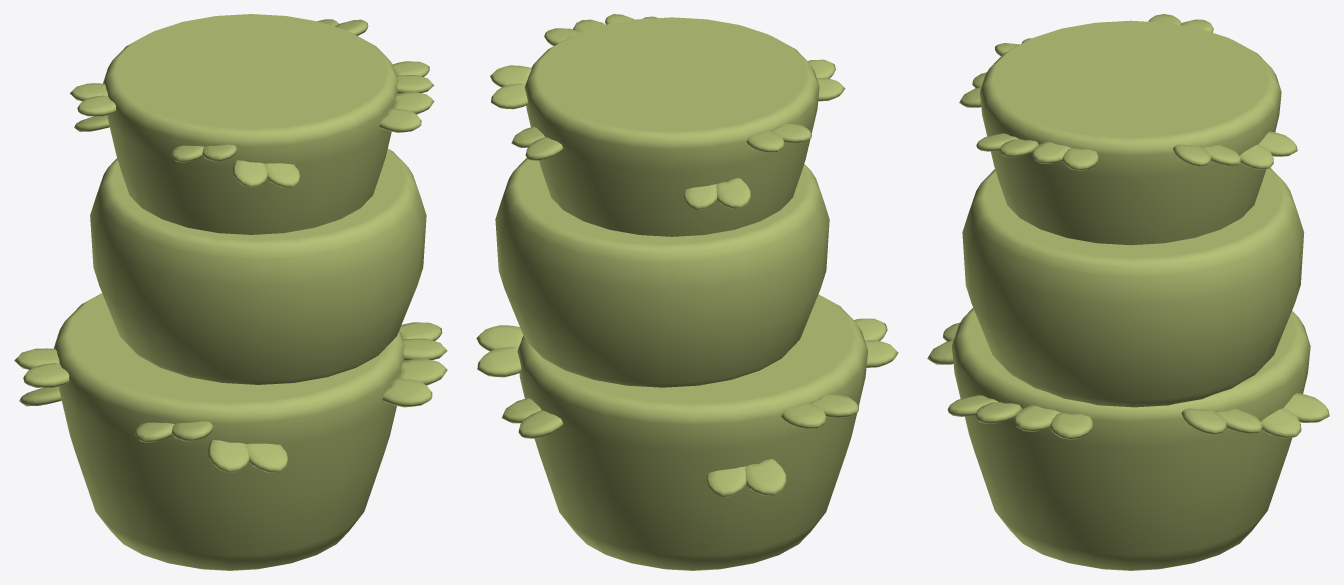
Rendered from bush.fbx.
3 views of the same model, side by side, from view 1: azimuth 30°, elevation 25°; view 2: azimuth 150°, elevation 25°; view 3: azimuth 270°, elevation 25° (orthographic). The views are drawn at different scales.
Parts seen in each view (by area): view 1: pCube46, pCube47, pCylinder6; view 2: pCube46, pCube47, pCylinder6; view 3: pCube47, pCube46, pCylinder6.
Boxes of the visible parts, left/top/right/bottom form: pCube46: left=14, top=293, right=447, bottom=570; pCube47: left=70, top=14, right=434, bottom=234; pCylinder6: left=90, top=148, right=426, bottom=384; pCube46: left=476, top=294, right=898, bottom=570; pCube47: left=490, top=14, right=845, bottom=236; pCylinder6: left=495, top=158, right=829, bottom=387; pCube47: left=959, top=14, right=1297, bottom=245; pCube46: left=927, top=308, right=1329, bottom=570; pCylinder6: left=962, top=168, right=1304, bottom=407.
Size of the model in its own units: 159 by 186 by 148.
